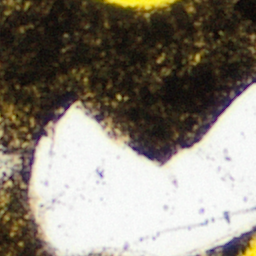air_pores: (101, 0, 177, 10)
cement_matrix: (0, 0, 255, 255), (191, 224, 255, 255), (87, 253, 110, 255)
cracks: (242, 235, 255, 255)
gravel_crushed_stones: (31, 86, 255, 255), (0, 147, 21, 186)
